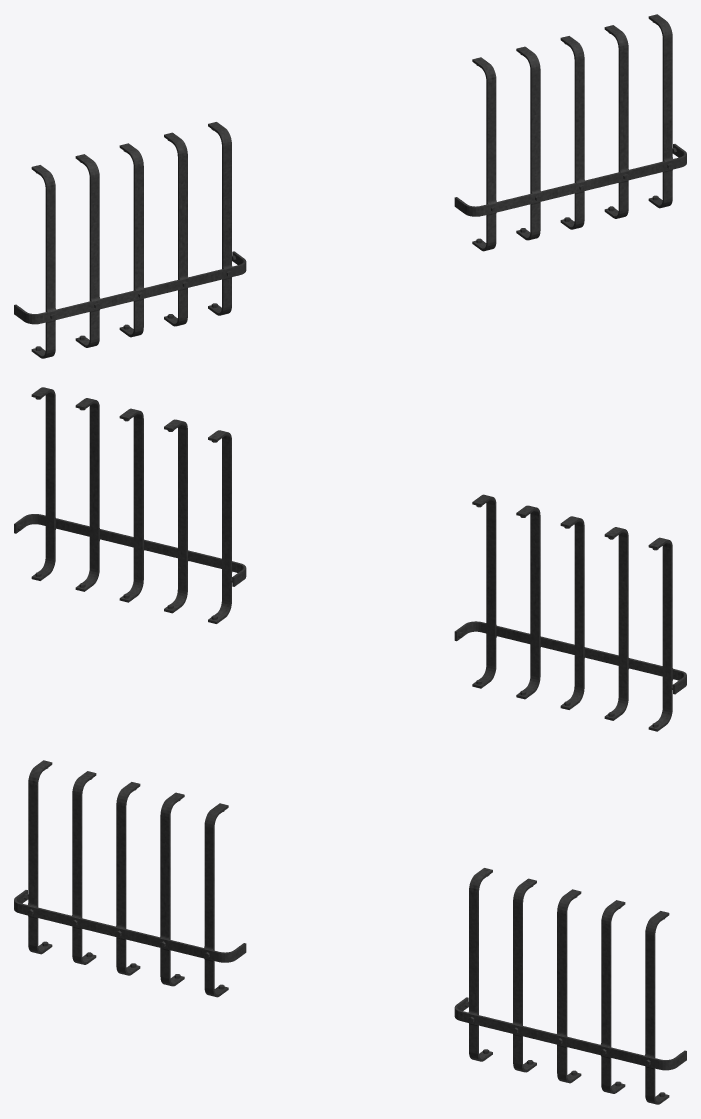
Rendered from metal_bars_double.fbx.
The picture shows the model from 3 angles, top to bottom: view 1: azimuth 30°, elevation 25°; view 2: azimuth 150°, elevation 25°; view 3: azimuth 330°, elevation 25°; orthographic projection.
Visible parts, largest first — view 1: metal_bars_double; view 2: metal_bars_double; view 3: metal_bars_double.
Boxes of the visible parts, x1,y1,x2,y2 form: metal_bars_double: (14, 14, 686, 358); metal_bars_double: (14, 387, 686, 731); metal_bars_double: (14, 760, 686, 1104).
Bounding box in the file's own units: 300 × 80 × 14.1.
